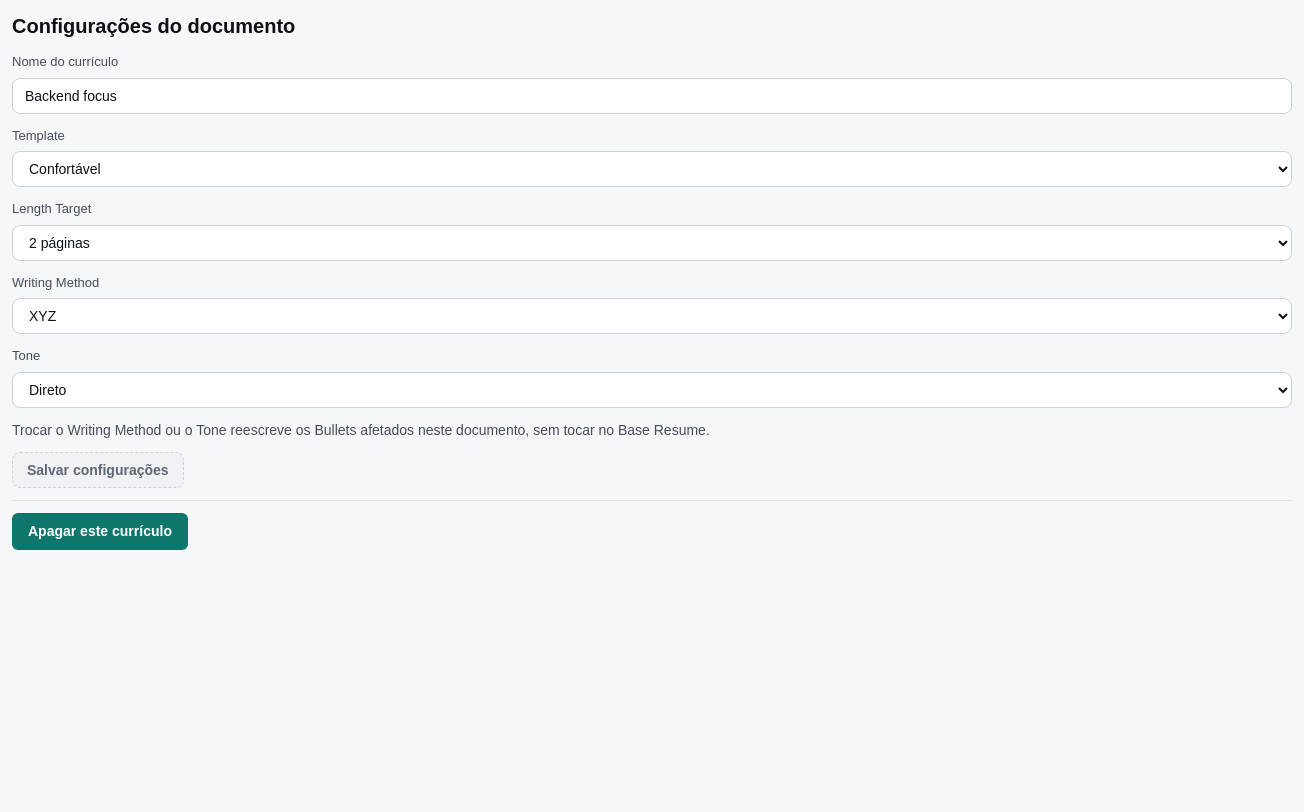
it: DocumentSettingsPanel › should save the changed template through the settings endpoint
The width and height of the screenshot is (1304, 812).
Select "Denso" in the dropdown labelled "Template" at (652, 169), box [12,151,1292,187]
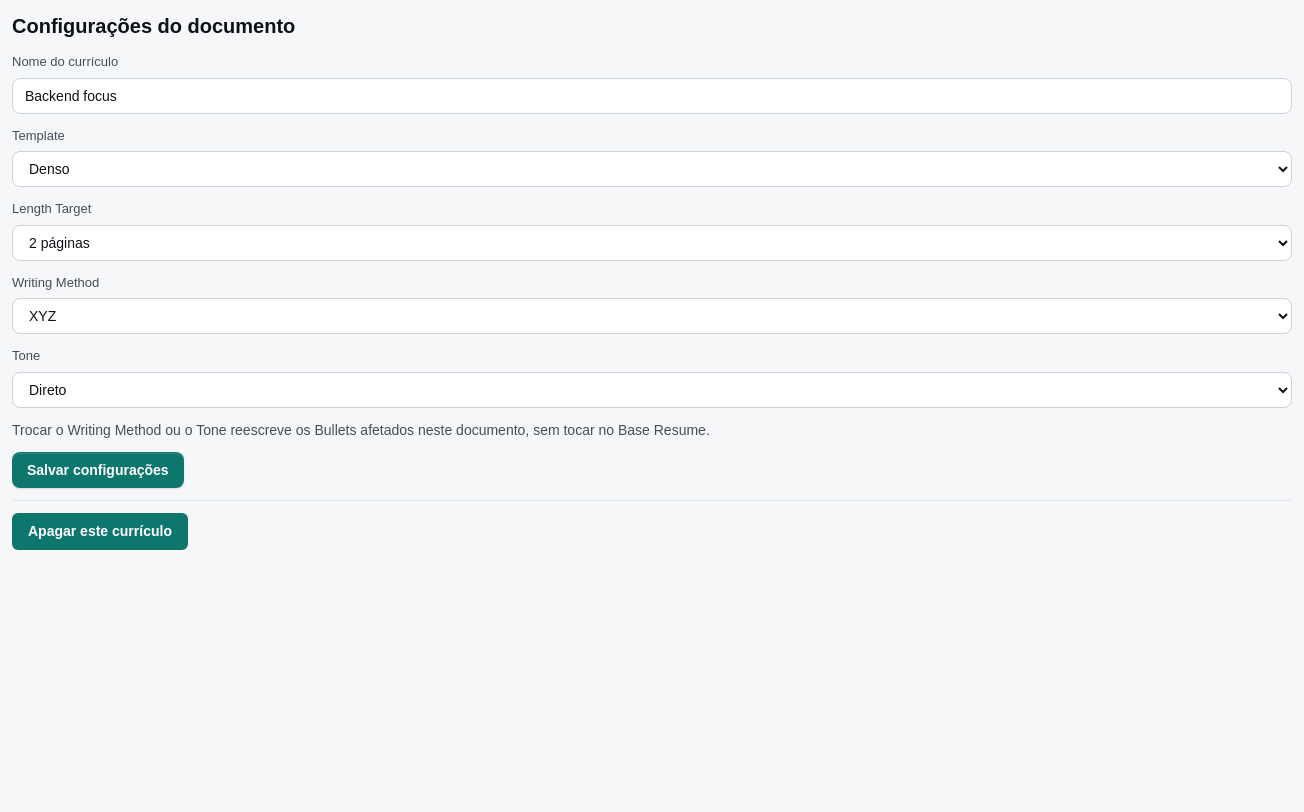
Click the button "Salvar configurações" at (98, 470), box [12,452,184,488]
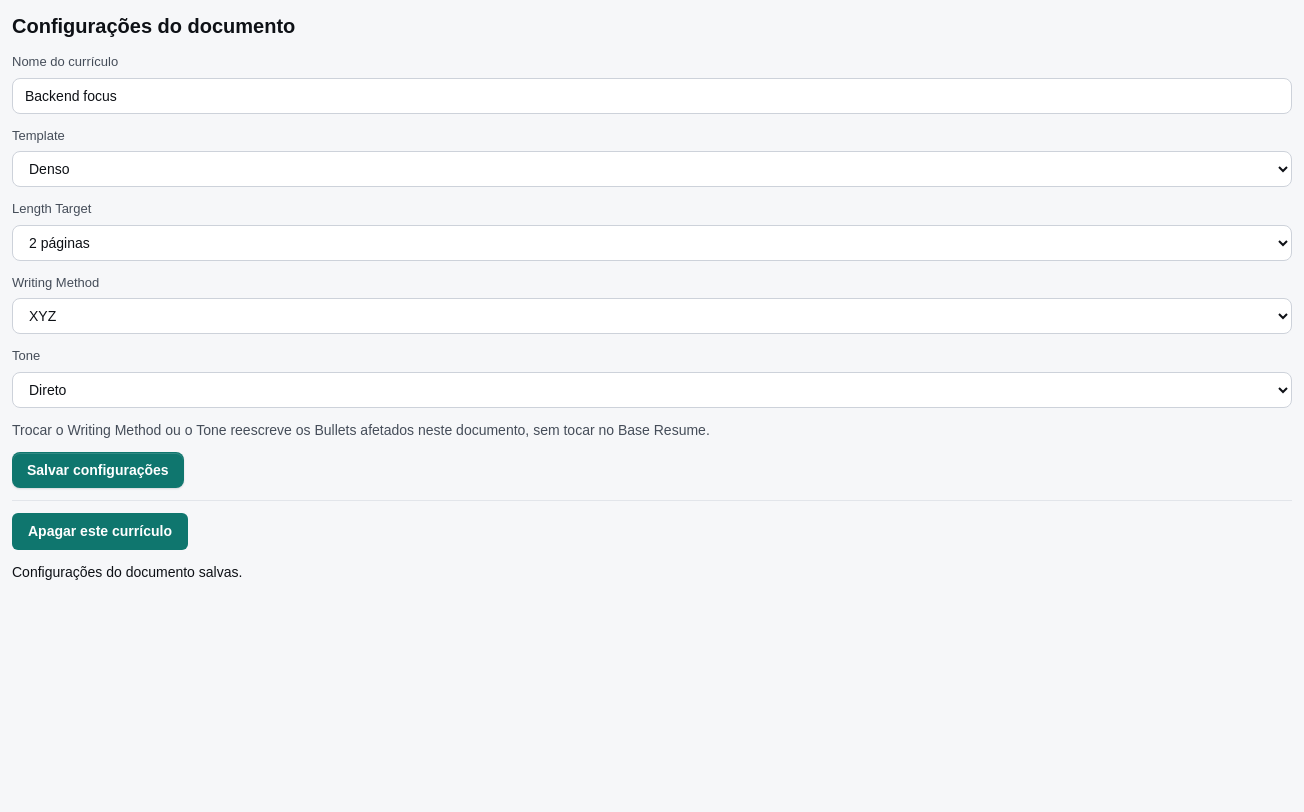
Now the message reads "Configurações do documento salvas.", box [12,564,242,580]
